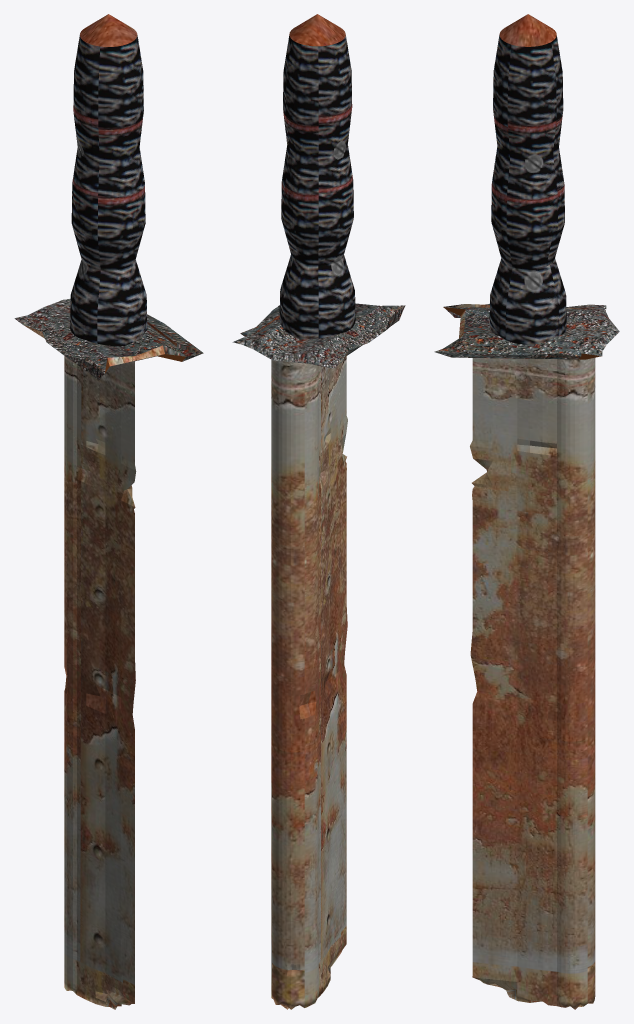
The model's file is kamach.fbx.
3 views of the same model, side by side, from view 1: azimuth 30°, elevation 25°; view 2: azimuth 150°, elevation 25°; view 3: azimuth 270°, elevation 25° (orthographic). The views are drawn at different scales.
Visible parts, largest first — view 1: Cone; view 2: Cone; view 3: Cone.
Part boxes in pixels (x1,y1,x2,y2): Cone: (14,14,203,1009); Cone: (232,14,405,1009); Cone: (434,14,619,1009).
Bounding box in the file's own units: 0.0462 × 0.3972 × 0.0675.
